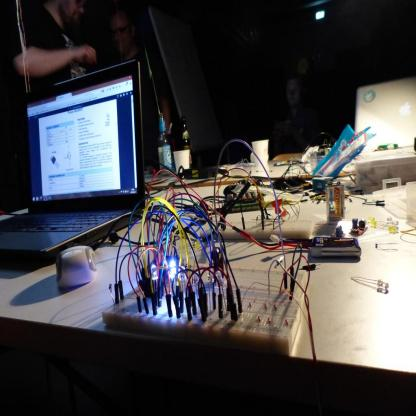board: (0, 59, 148, 262), (355, 77, 415, 155)
